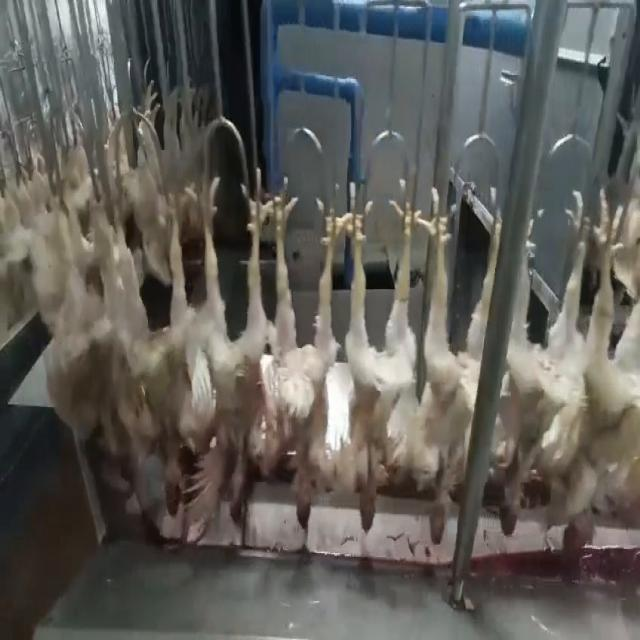chicken: (492, 174, 600, 537), (400, 191, 501, 550), (558, 177, 640, 574), (336, 186, 420, 531), (193, 167, 271, 525), (264, 189, 344, 533), (132, 151, 194, 518), (46, 198, 123, 444)
